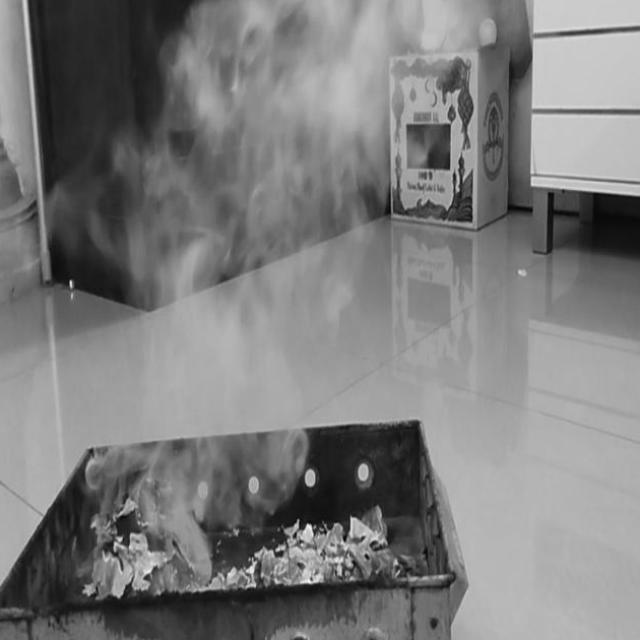fire: (158, 9, 396, 229), (130, 274, 312, 521)
